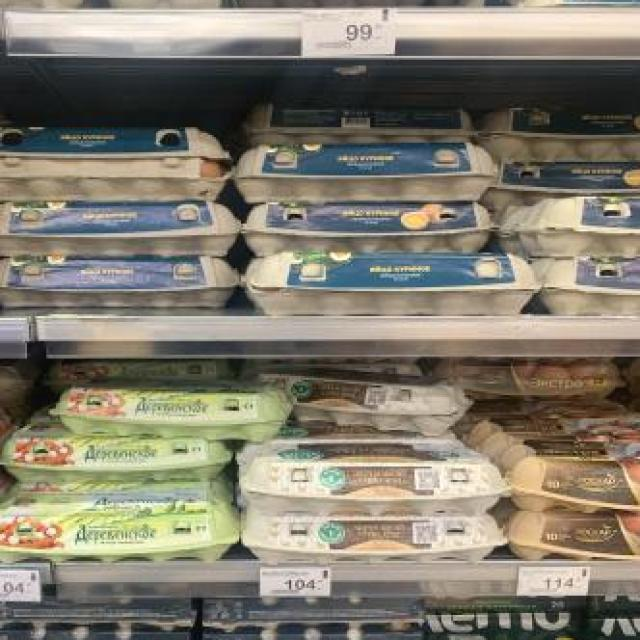egg: (242, 251, 538, 316), (238, 440, 502, 512), (0, 124, 224, 200), (234, 142, 500, 200), (237, 200, 499, 258), (244, 507, 508, 563), (0, 196, 235, 256), (0, 252, 241, 308), (259, 370, 466, 432), (444, 358, 618, 402), (516, 196, 640, 254), (540, 252, 640, 310)
